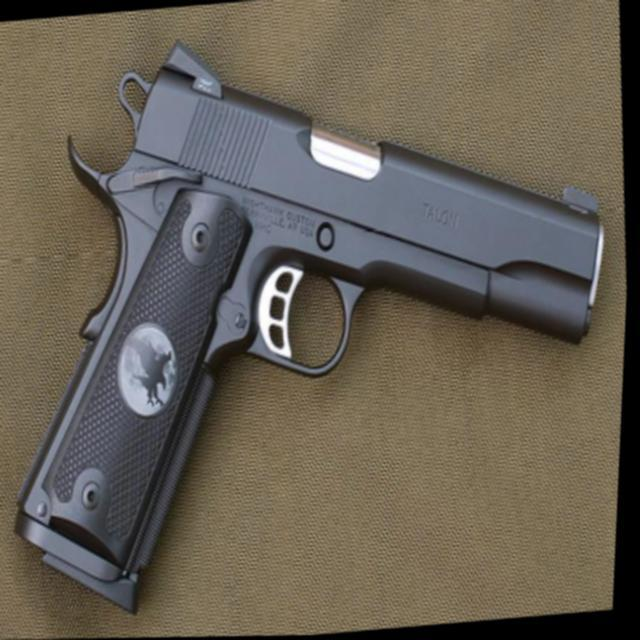weapon: (0, 2, 637, 622)
